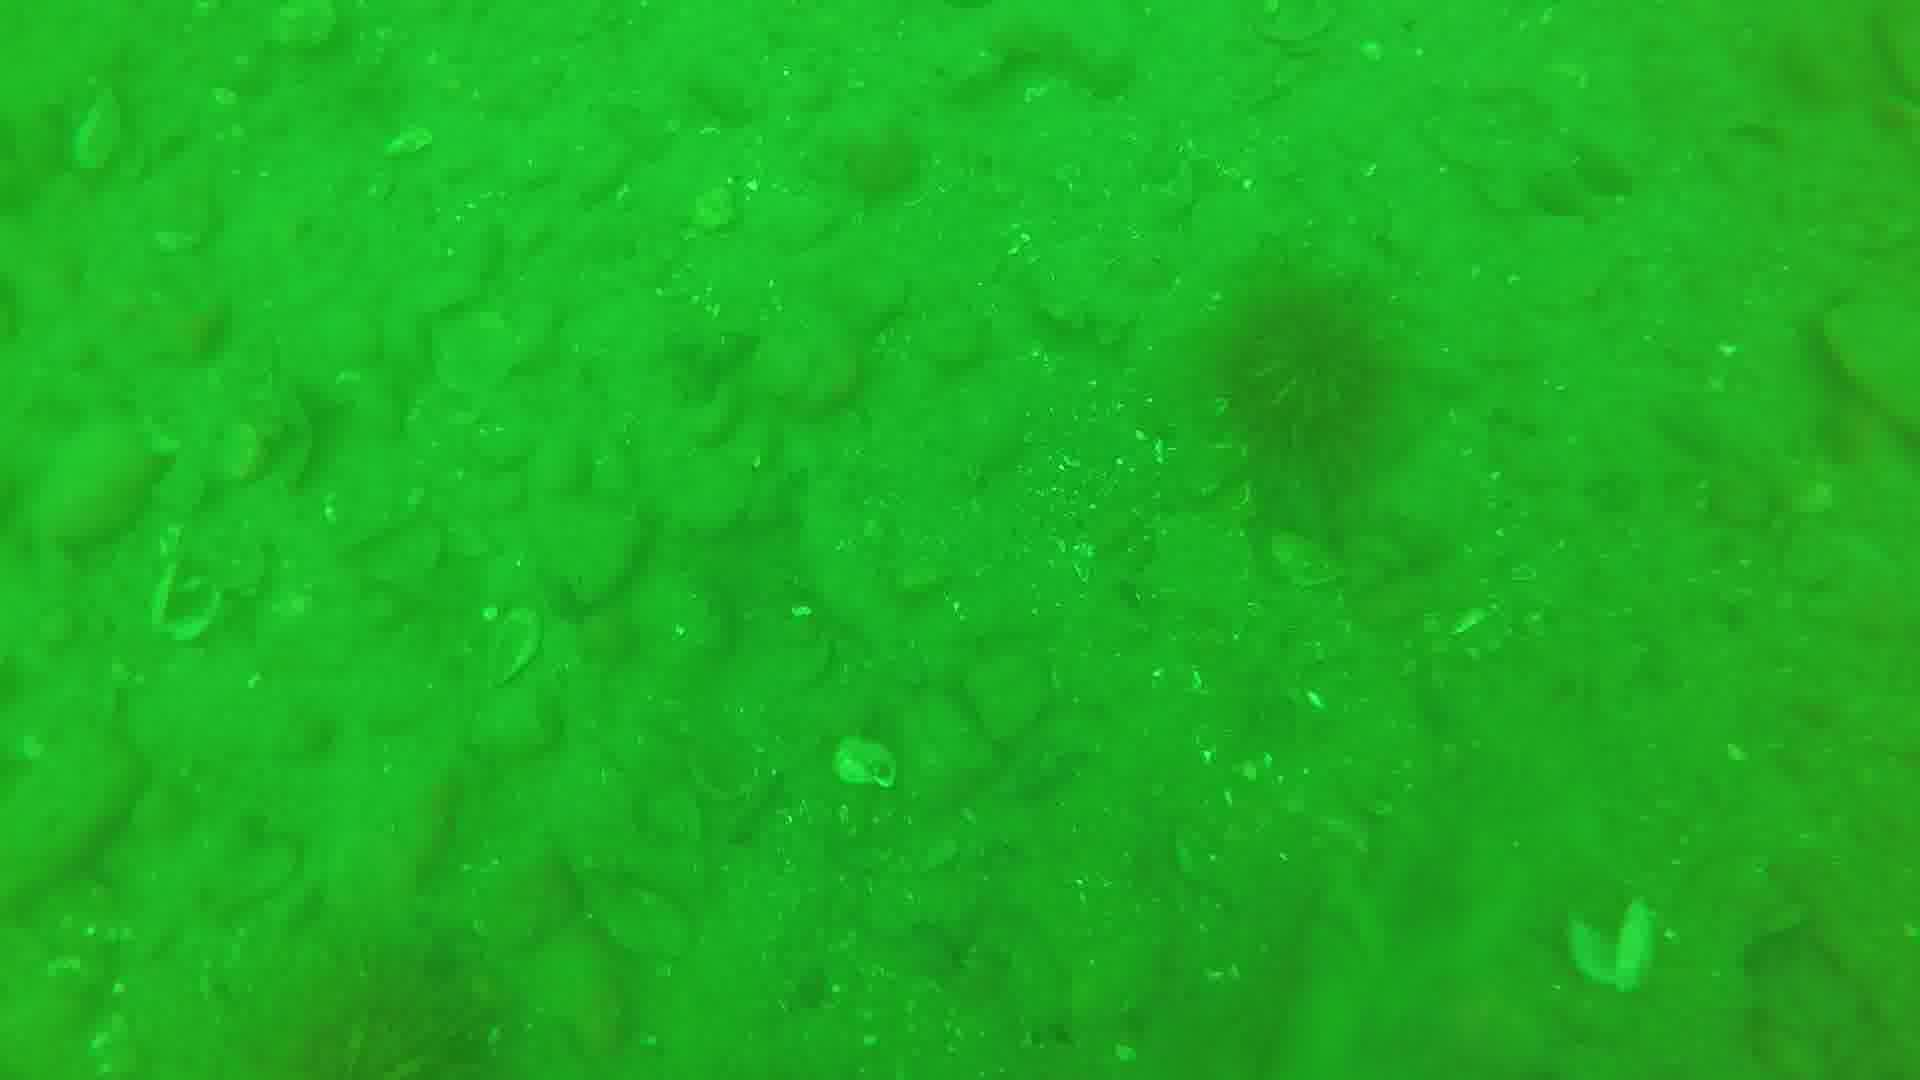echinus: (306, 939, 541, 1080), (1226, 278, 1411, 446)
scallop: (1563, 905, 1662, 986), (146, 563, 229, 647)
